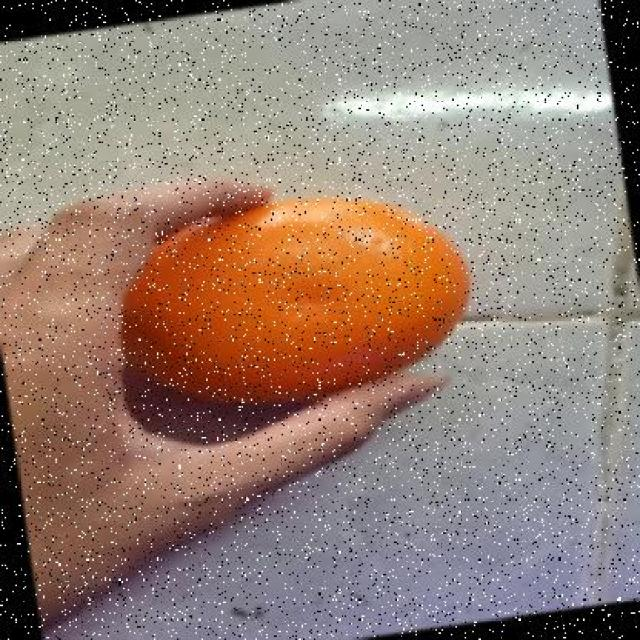Orange: (119, 192, 472, 406)
